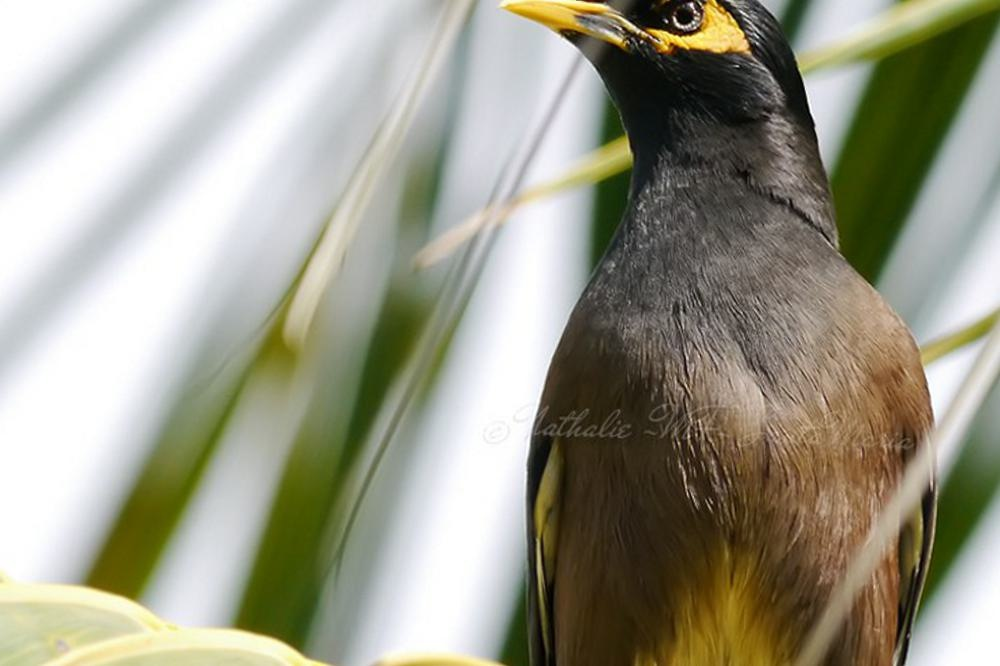myna: (501, 1, 952, 660)
